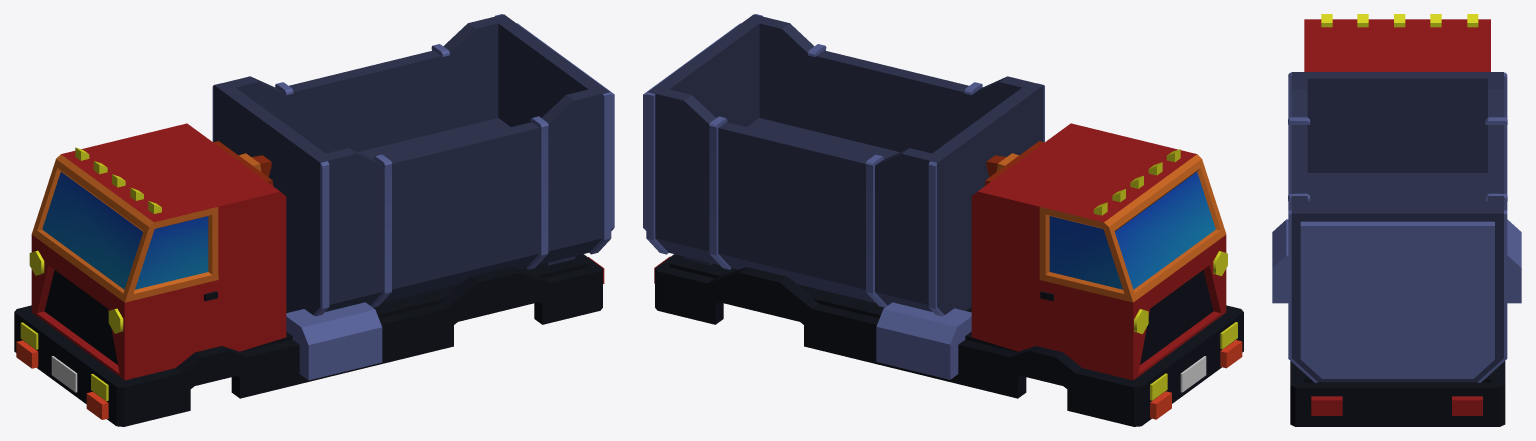
File: Truck2.FBX
3 views of the same model, side by side, from view 1: azimuth 30°, elevation 25°; view 2: azimuth 150°, elevation 25°; view 3: azimuth 270°, elevation 25° (orthographic).
Parts seen in each view (by area): view 1: Truck2; view 2: Truck2; view 3: Truck2.
Part boxes in pixels (<box>): Truck2: <box>14,14,614,426</box>; Truck2: <box>643,14,1243,426</box>; Truck2: <box>1272,14,1521,426</box>.
Bounding box in the file's own units: 113 × 45.98 × 48.06.
